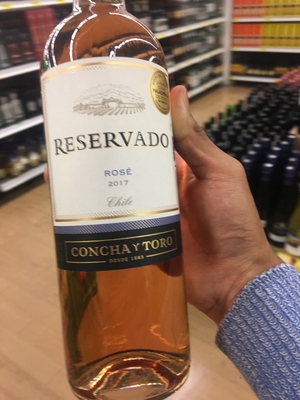reservado rose: (39, 8, 190, 387)
